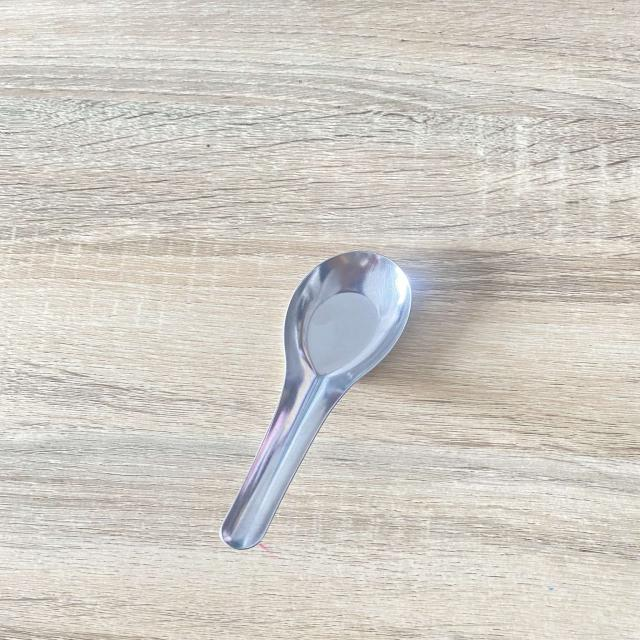short-spoon: (212, 238, 438, 561)
